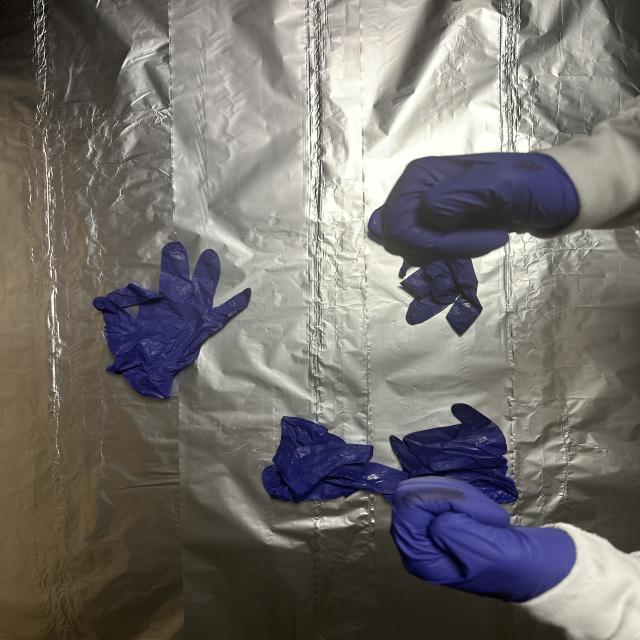gloves_contaminated: (382, 153, 578, 266), (392, 481, 575, 601)
